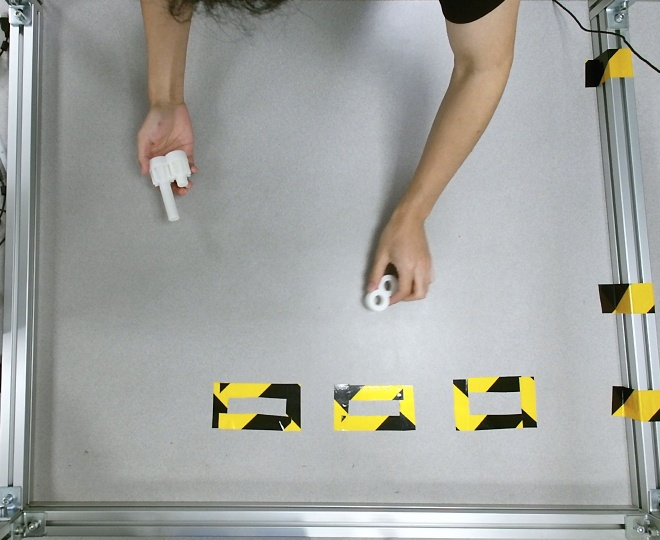stage_3: (148, 150, 189, 222)
